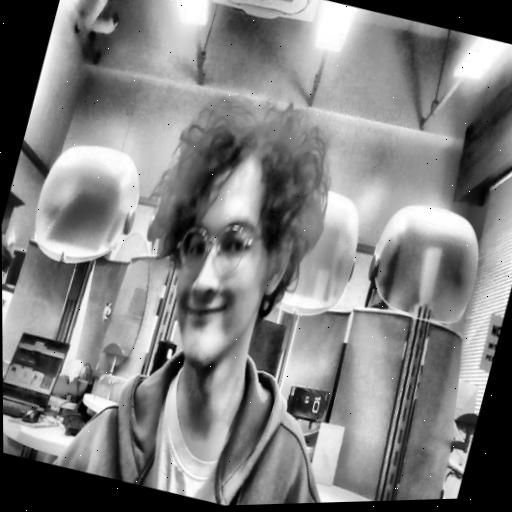Daifuku: (116, 85, 341, 381)
